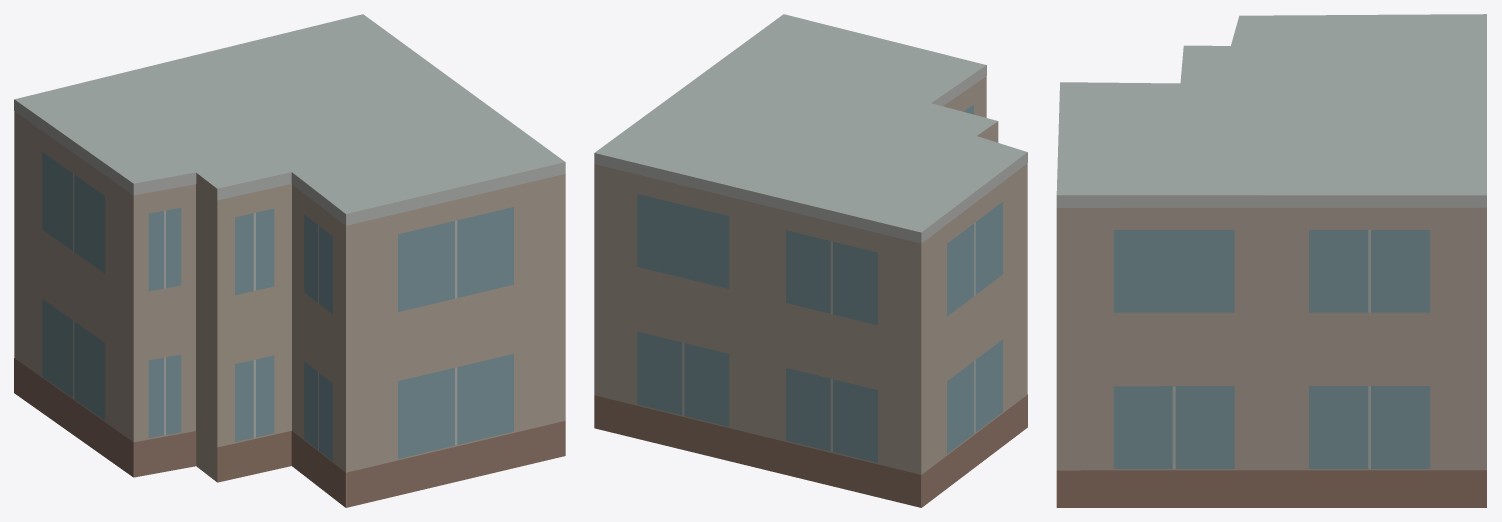
File: survey-upis-32812479.glb
The picture shows the model from 3 angles, left to right: view 1: azimuth 30°, elevation 25°; view 2: azimuth 150°, elevation 25°; view 3: azimuth 270°, elevation 25°; orthographic projection. The views are drawn at different scales.
Visible parts, largest first — view 1: survey-upis-32812479.tmp; view 2: survey-upis-32812479.tmp; view 3: survey-upis-32812479.tmp.
Part boxes in pixels (x1,y1,x2,y2): survey-upis-32812479.tmp: (14,14,565,507); survey-upis-32812479.tmp: (594,14,1027,507); survey-upis-32812479.tmp: (1056,14,1486,507).
Size of the model in its own units: 7.6 by 6.1 by 7.63.
